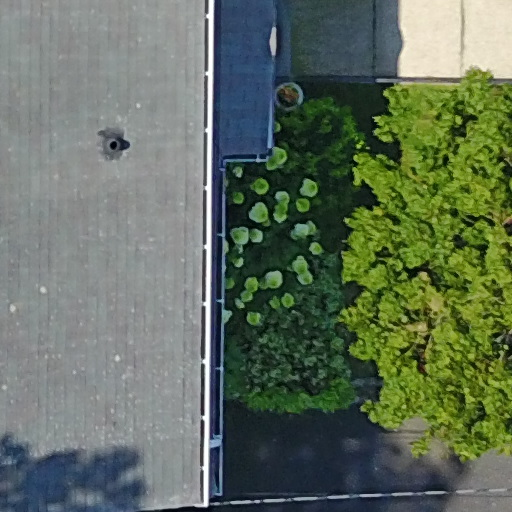flower pot: (270, 81, 311, 116)
